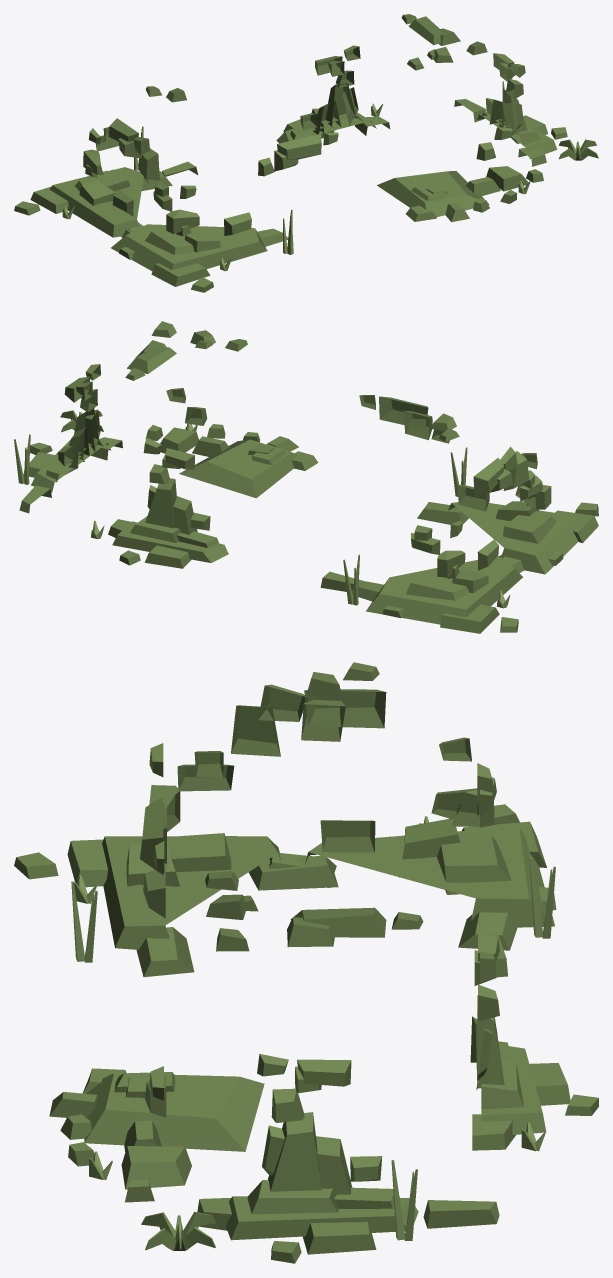
File: SA_Bld_Diner_Growth_01.gltf
3 renders of one model, top to bottom at view 1: azimuth 30°, elevation 25°; view 2: azimuth 150°, elevation 25°; view 3: azimuth 270°, elevation 25°, orthographic. The views are drawn at different scales.
Visible parts, largest first — view 1: SA_Bld_Diner_Growth_01; view 2: SA_Bld_Diner_Growth_01; view 3: SA_Bld_Diner_Growth_01.
Part boxes in pixels (x1,y1,x2,y2): SA_Bld_Diner_Growth_01: (14, 14, 598, 292); SA_Bld_Diner_Growth_01: (14, 321, 598, 633); SA_Bld_Diner_Growth_01: (14, 662, 598, 1263).
Size of the model in its own units: 30.49 by 7.75 by 16.66.
Materials: 1 (1 with a texture image).
